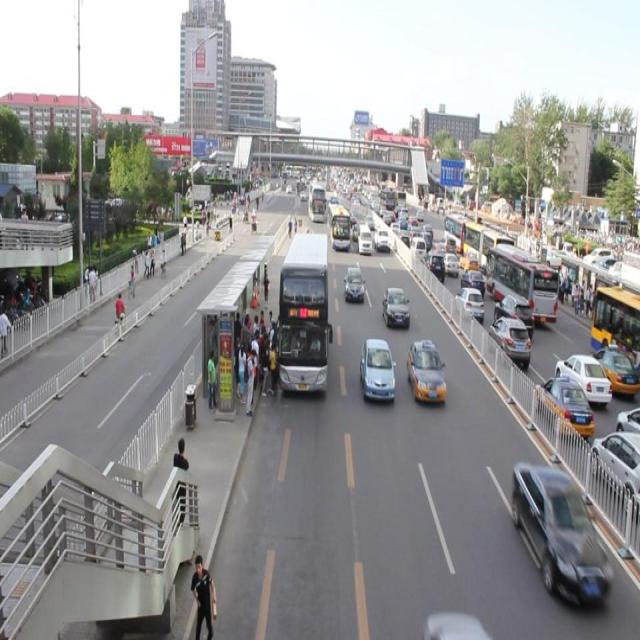car: (510, 461, 610, 606), (406, 338, 444, 404), (360, 338, 392, 404), (381, 286, 409, 330), (344, 264, 361, 302), (374, 229, 388, 253), (346, 210, 356, 226), (352, 226, 361, 242), (364, 214, 373, 229), (330, 195, 337, 208)
truck: (358, 226, 370, 252)
van: (279, 234, 327, 392), (328, 204, 346, 245), (309, 186, 324, 223)
